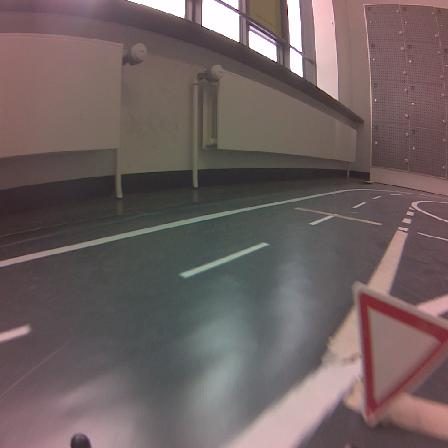GIVE_WAY: (353, 283, 447, 425)
